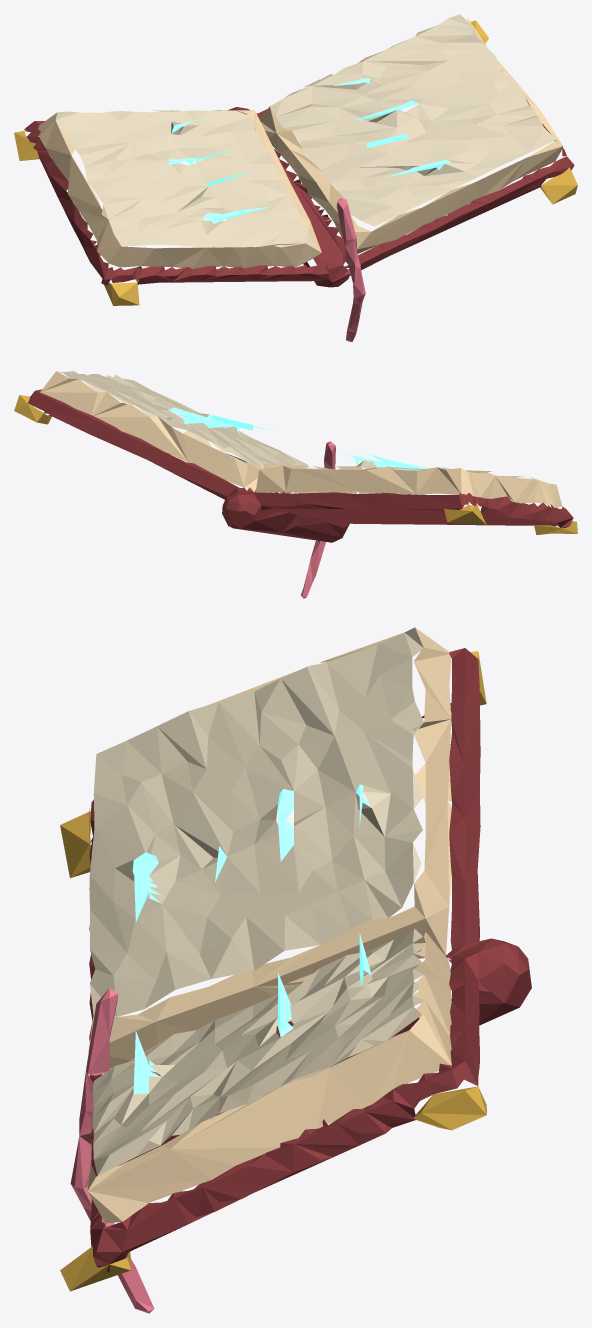
File: spellbook_book.glb
3 views of the same model, one above another, from view 1: azimuth 30°, elevation 25°; view 2: azimuth 150°, elevation 25°; view 3: azimuth 270°, elevation 25° (orthographic). The views are drawn at different scales.
Parts seen in each view (by area): view 1: spellbook_book; view 2: spellbook_book; view 3: spellbook_book.
Part boxes in pixels (<box>): spellbook_book: <box>14,14,577,341</box>; spellbook_book: <box>14,371,577,598</box>; spellbook_book: <box>60,627,531,1313</box>.
Bounding box in the file's own units: 0.8201 × 0.3922 × 0.3583.
